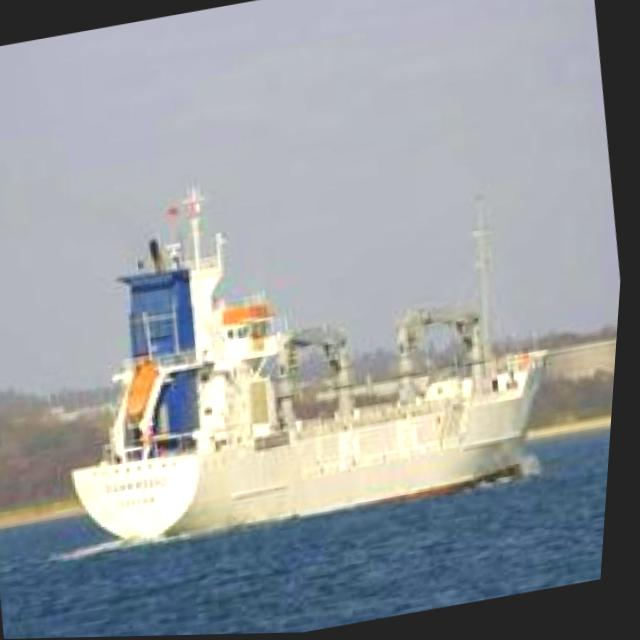ship2: (74, 197, 554, 550)
